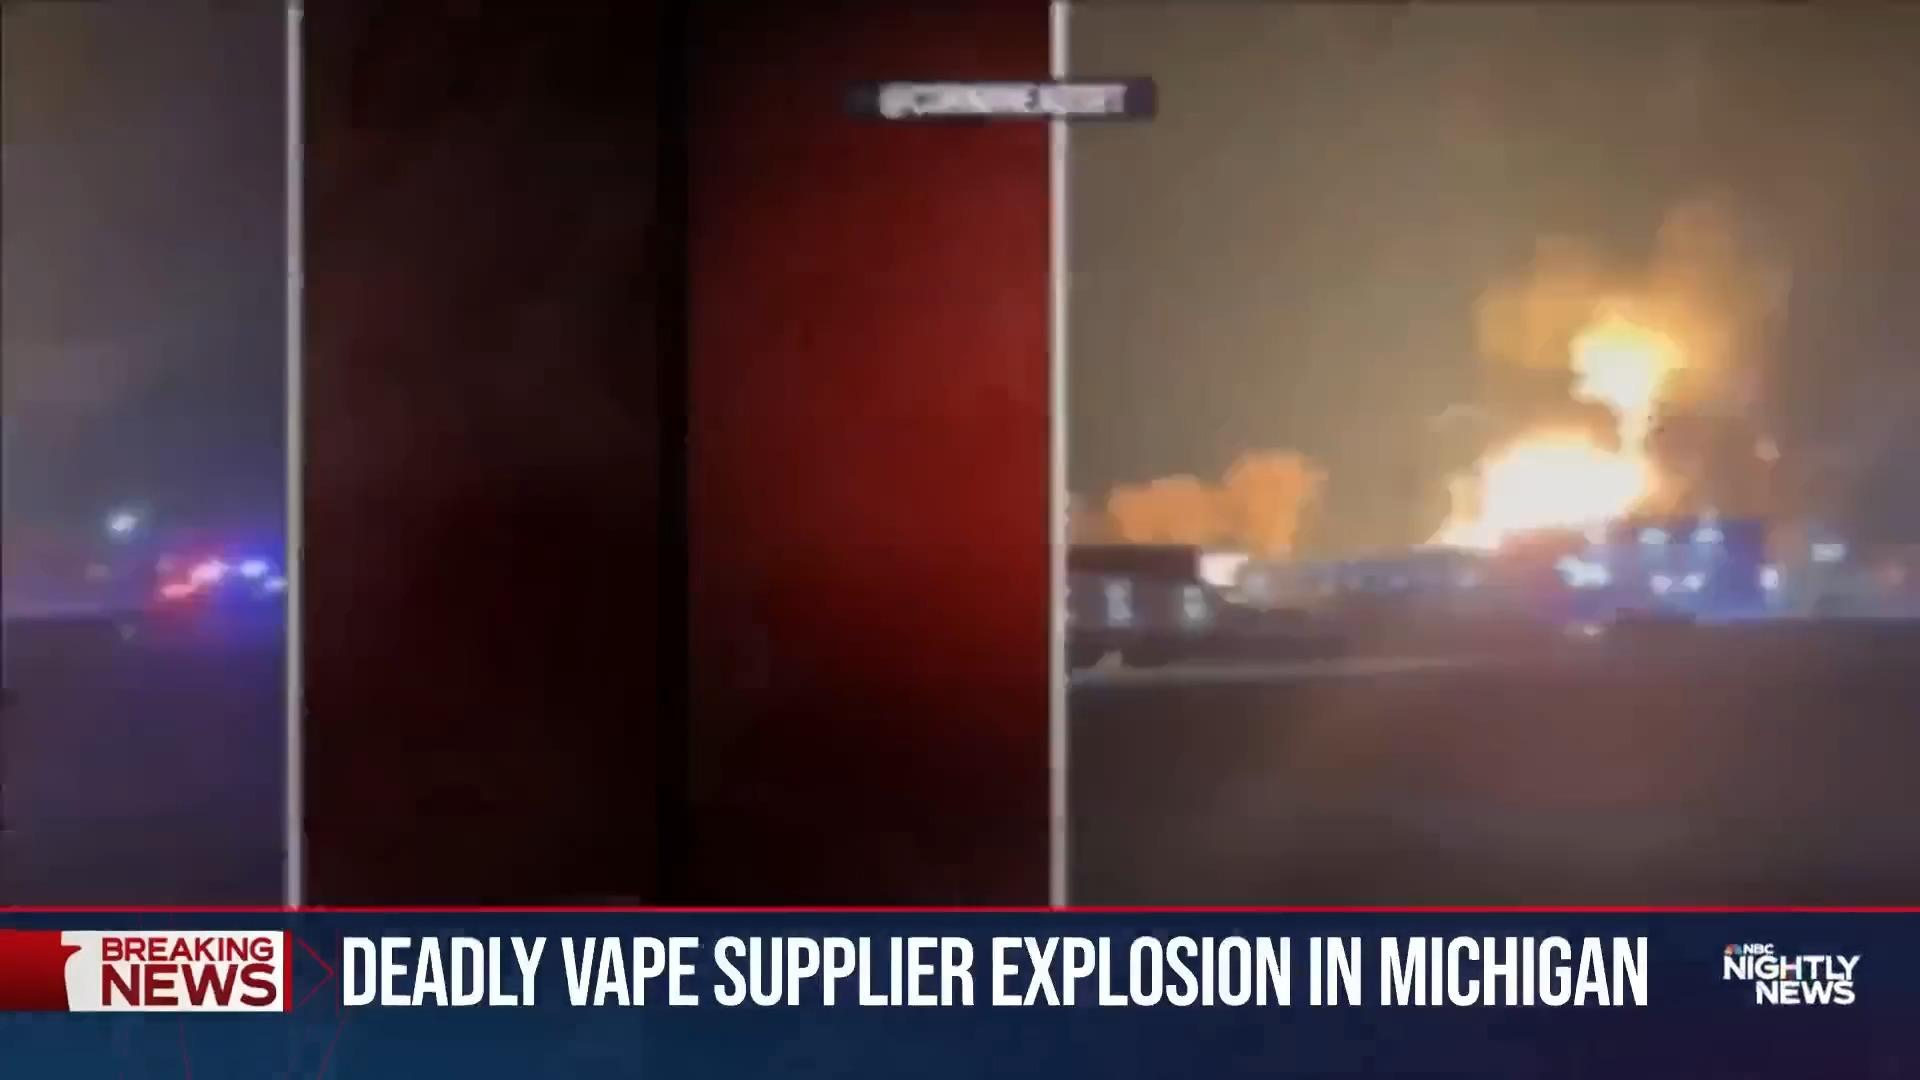fire: (1455, 286, 1753, 597)
